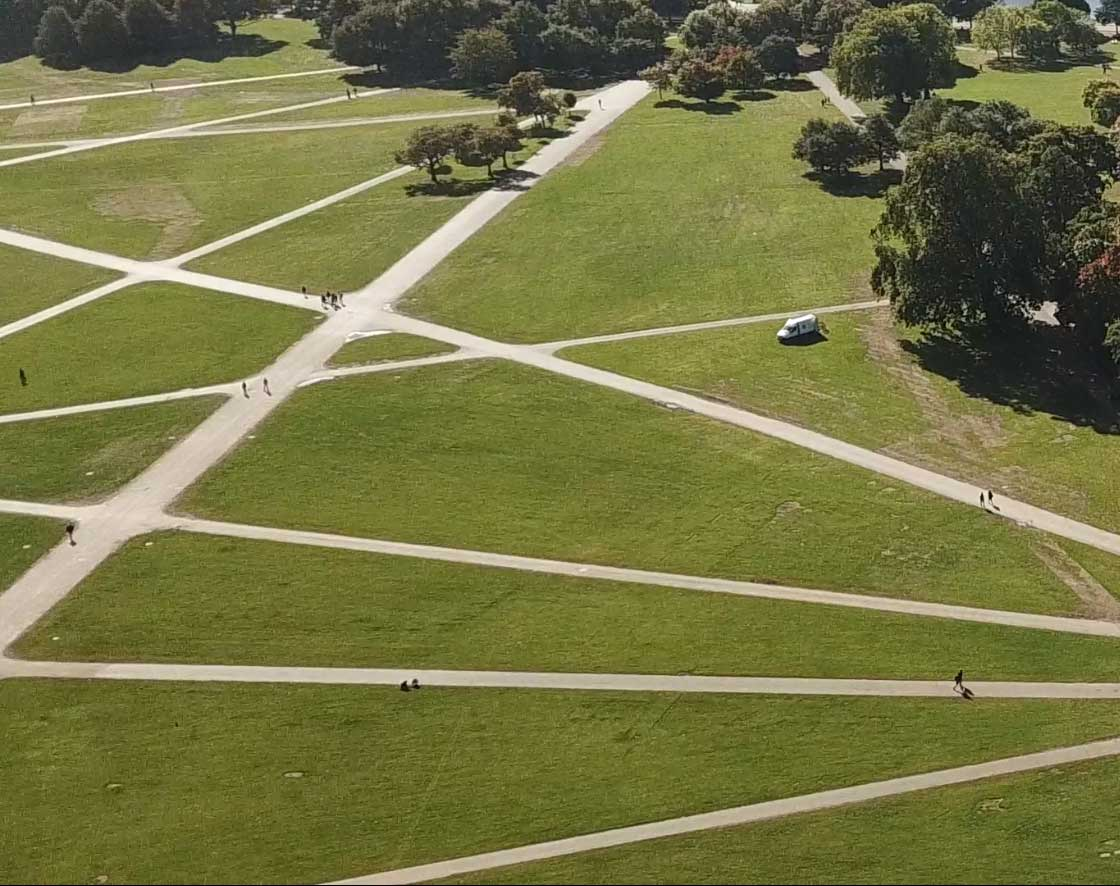car: (769, 304, 832, 350)
trees: (866, 90, 1120, 347), (361, 2, 942, 72), (388, 111, 533, 194)
